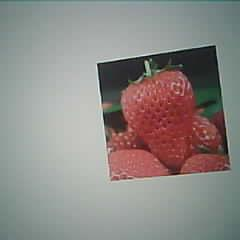straw-ripe: (120, 72, 193, 166)
